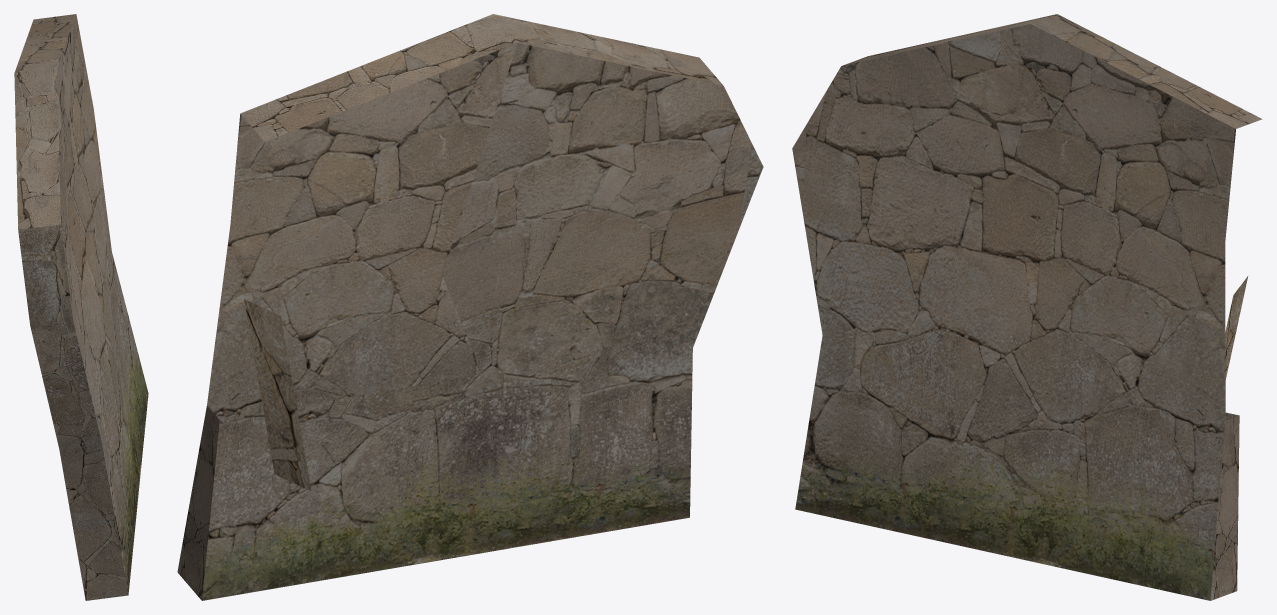
The model's file is muros1pequeno.fbx.
3 renders of one model, left to right at view 1: azimuth 30°, elevation 25°; view 2: azimuth 150°, elevation 25°; view 3: azimuth 270°, elevation 25°, orthographic. The views are drawn at different scales.
Parts seen in each view (by area): view 1: Box001.001; view 2: Box001.001; view 3: Box001.001.
Boxes of the visible parts, x1,y1,x2,y2 form: Box001.001: (14,14,148,600); Box001.001: (177,14,763,600); Box001.001: (792,14,1262,600).
Bounding box in the file's own units: 154 × 228 × 191.
